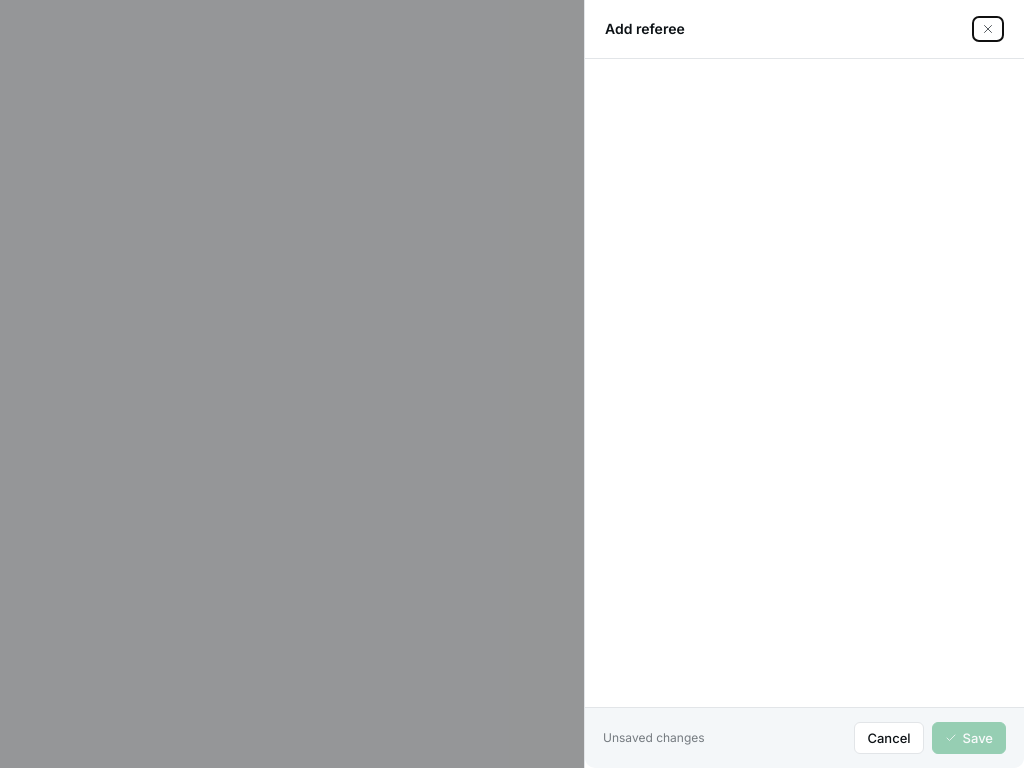
FormDrawerComponent › closes once the discard guard is confirmed
Click the button "Cancel" at (889, 738), box [854,722,924,754]
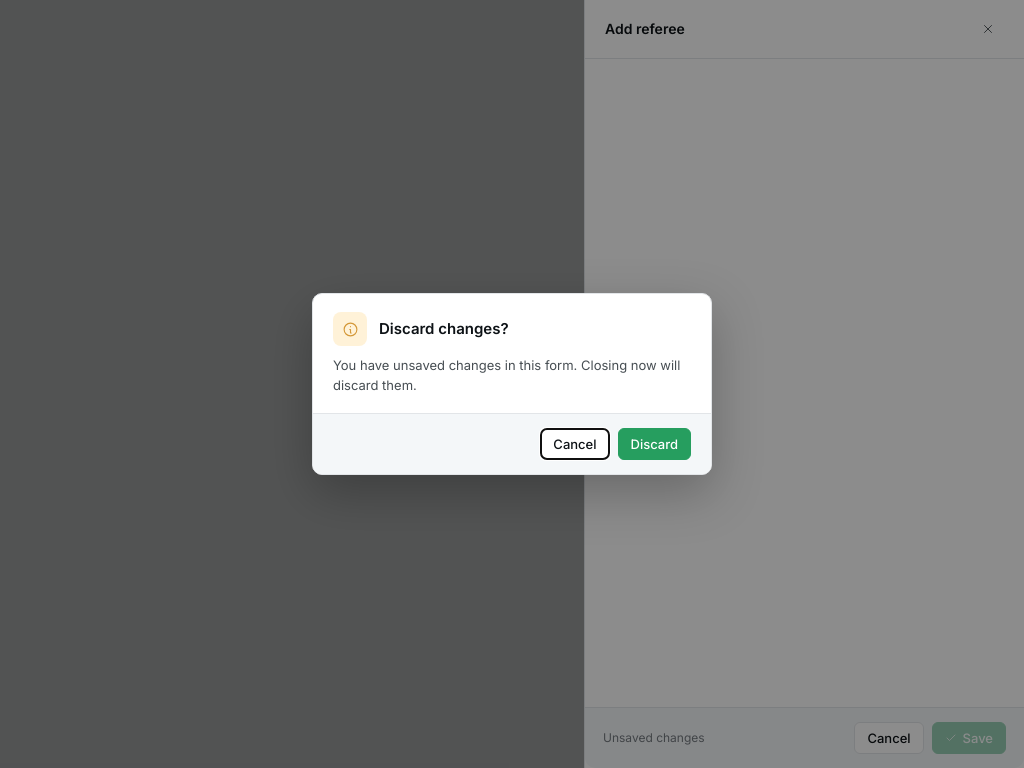
Click the button with class "btn--primary" showing "Discard" at (654, 444), box [618,428,691,460]
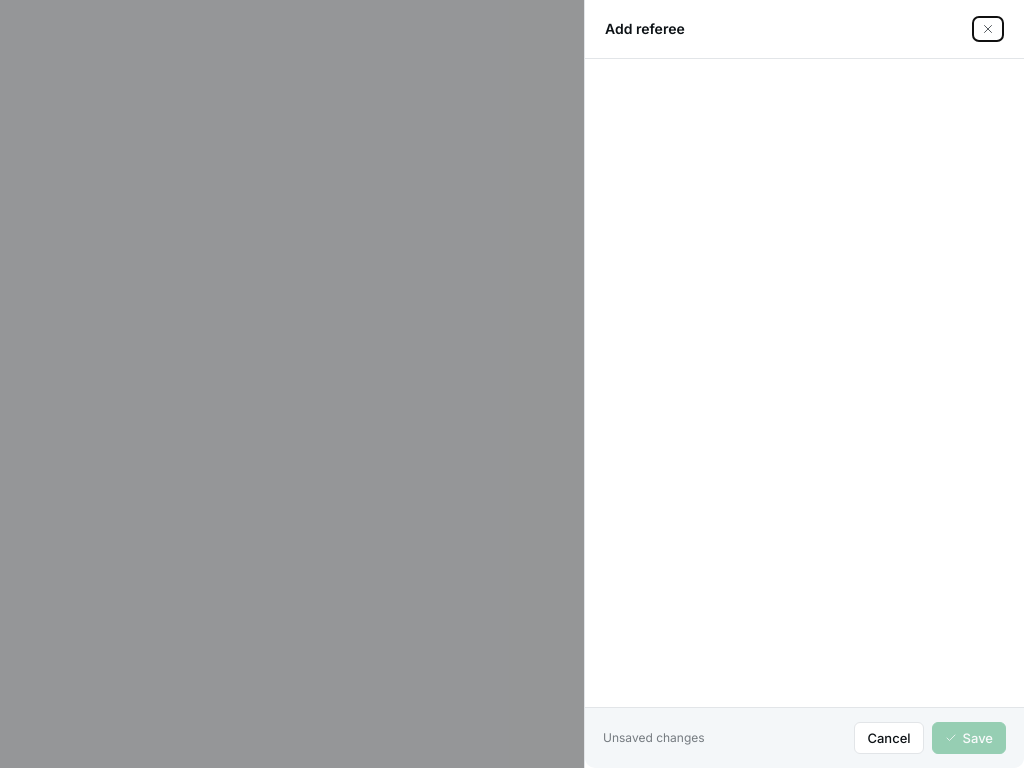
Now the dialog with class "modal" is gone
